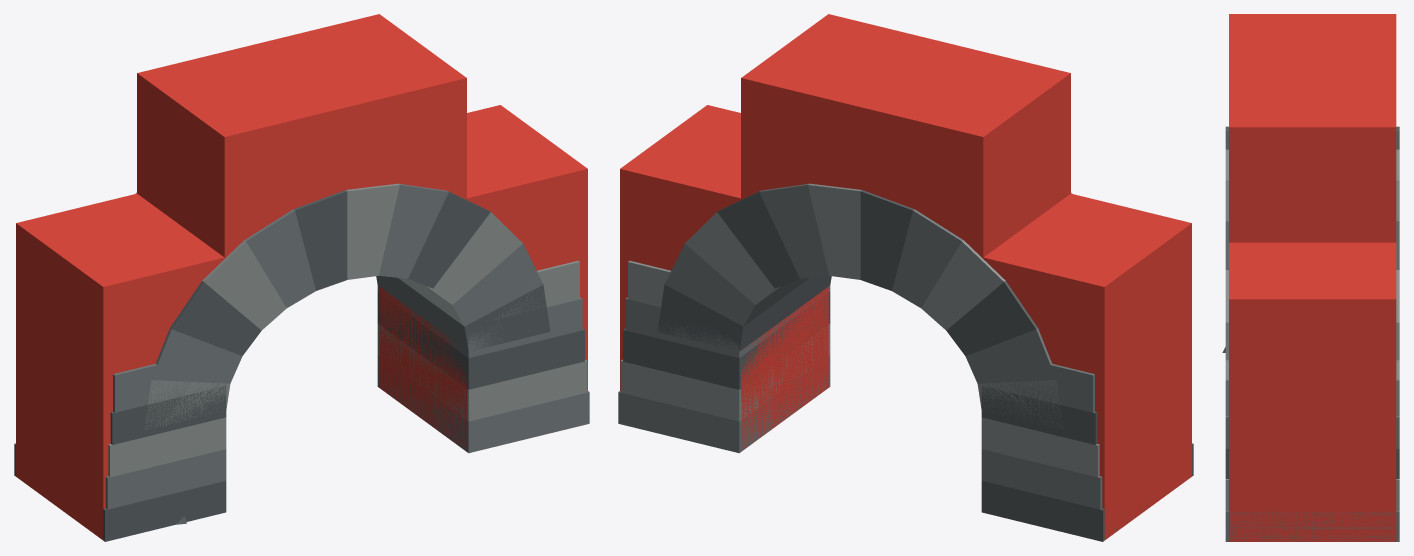
File: ironwind_natural_arch.glb
3 renders of one model, left to right at view 1: azimuth 30°, elevation 25°; view 2: azimuth 150°, elevation 25°; view 3: azimuth 270°, elevation 25°, orthographic. The views are drawn at different scales.
Visible parts, largest first — view 1: ironwind_natural_arch_lod0, ironwind_natural_arch_wall_crown, ironwind_natural_arch_wall_left, ironwind_natural_arch_wall_right; view 2: ironwind_natural_arch_lod0, ironwind_natural_arch_wall_crown, ironwind_natural_arch_wall_left, ironwind_natural_arch_wall_right; view 3: ironwind_natural_arch_wall_right, ironwind_natural_arch_wall_crown, ironwind_natural_arch_lod0.
Part boxes in pixels (bbox=[...]): ironwind_natural_arch_lod0: bbox=[14, 183, 589, 541]; ironwind_natural_arch_wall_crown: bbox=[137, 14, 466, 258]; ironwind_natural_arch_wall_left: bbox=[16, 193, 224, 540]; ironwind_natural_arch_wall_right: bbox=[379, 105, 587, 451]; ironwind_natural_arch_lod0: bbox=[618, 183, 1193, 541]; ironwind_natural_arch_wall_crown: bbox=[741, 14, 1070, 258]; ironwind_natural_arch_wall_left: bbox=[983, 193, 1191, 540]; ironwind_natural_arch_wall_right: bbox=[620, 105, 828, 450]; ironwind_natural_arch_wall_right: bbox=[1229, 242, 1396, 541]; ironwind_natural_arch_wall_crown: bbox=[1229, 14, 1396, 242]; ironwind_natural_arch_lod0: bbox=[1222, 126, 1399, 541].
Size of what is drawn, in the model's own units: 16 by 11.8 by 5.3.
